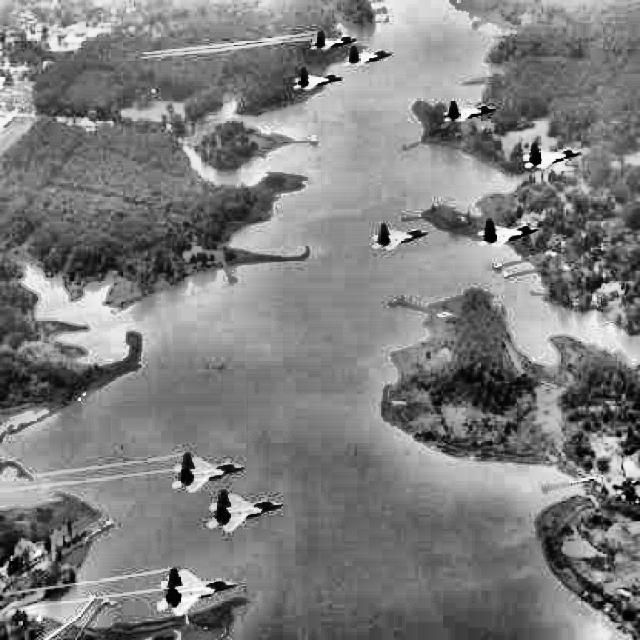F22: (157, 568, 237, 617), (208, 490, 282, 532), (172, 452, 246, 493), (478, 218, 539, 248), (373, 223, 429, 251), (524, 144, 581, 168), (442, 100, 496, 123), (294, 68, 343, 90), (344, 46, 391, 66), (311, 31, 357, 51)
